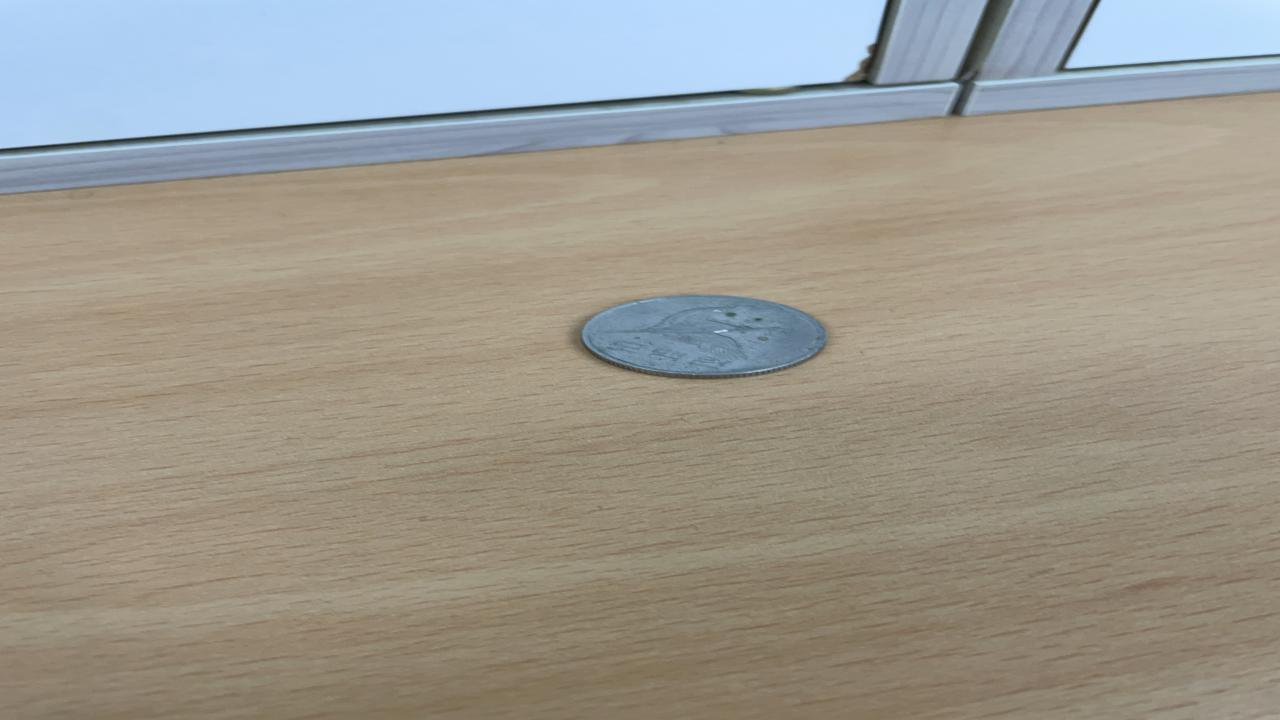coin: (572, 291, 834, 379)
